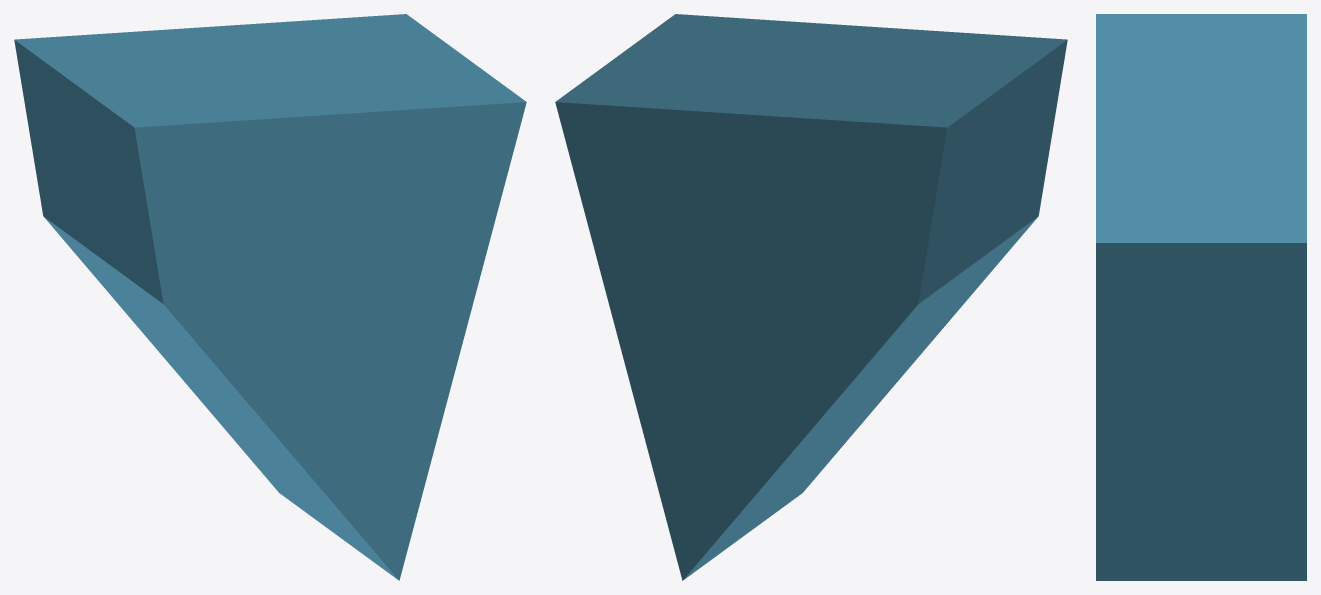
File: NexusA_Trigger_21.fbx
3 views of the same model, side by side, from view 1: azimuth 30°, elevation 25°; view 2: azimuth 150°, elevation 25°; view 3: azimuth 270°, elevation 25° (orthographic). The views are drawn at different scales.
Visible parts, largest first — view 1: pCube37; view 2: pCube37; view 3: pCube37.
Boxes of the visible parts, x1=… form: pCube37: x1=14, y1=14, x2=526, y2=580; pCube37: x1=555, y1=14, x2=1067, y2=580; pCube37: x1=1096, y1=14, x2=1306, y2=580.
Bounding box in the file's own units: 22.72 × 28.67 × 12.07.
